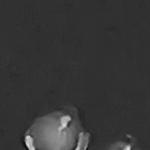colony: (18, 97, 91, 150), (100, 130, 142, 150)
